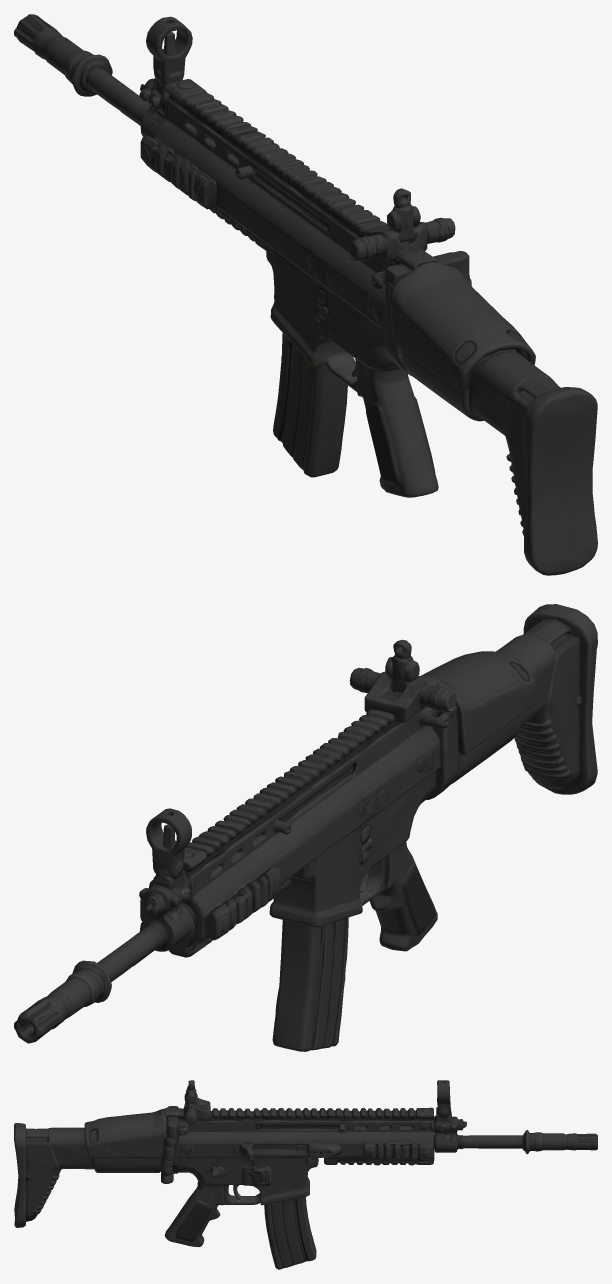
Rendered from rifle-W4XHV7CY.glb.
3 views of the same model, one above another, from view 1: azimuth 30°, elevation 25°; view 2: azimuth 150°, elevation 25°; view 3: azimuth 270°, elevation 25° (orthographic). The views are drawn at different scales.
Bounding box in the file's own units: 0.1127 × 0.3328 × 0.95.
Materials: 1 (1 with a texture image).
